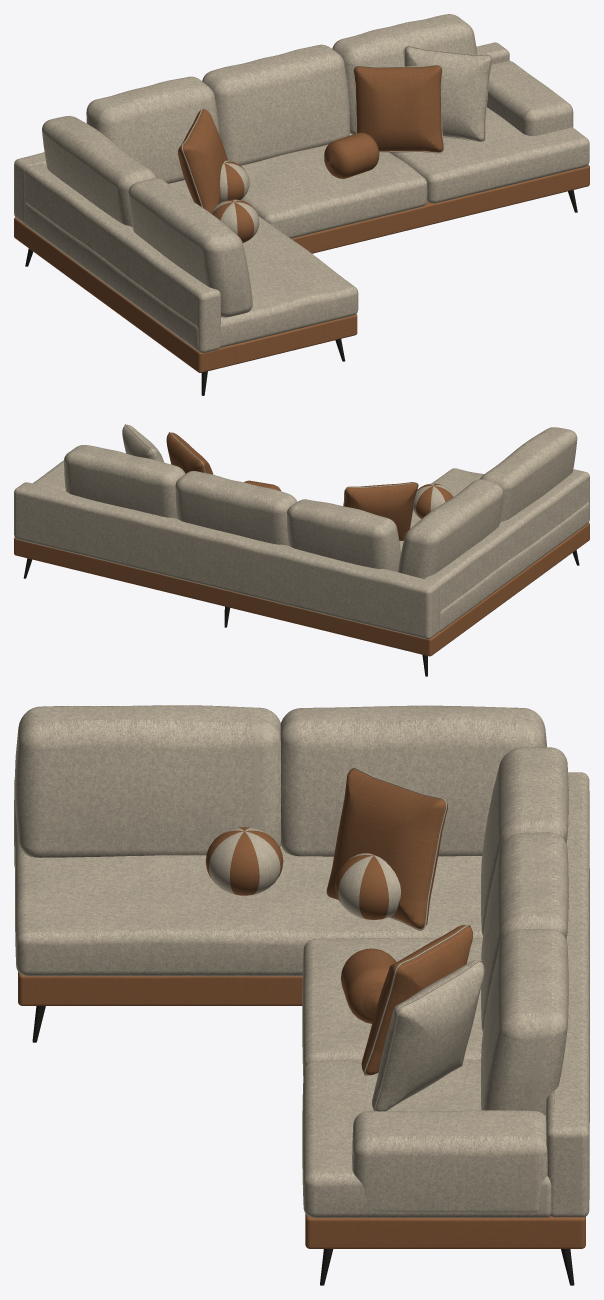
Rendered from corner.glb.
3 views of the same model, one above another, from view 1: azimuth 30°, elevation 25°; view 2: azimuth 150°, elevation 25°; view 3: azimuth 270°, elevation 25° (orthographic). The views are drawn at different scales.
Parts seen in each view (by area): view 1: fabric, accent, trim, pillows (×2); view 2: fabric, trim, accent, pillows, legs; view 3: fabric, accent, trim, pillows (×2), legs.
Boxes of the visible parts, <box> form: fabric: <box>14,14,589,353</box>; accent: <box>178,65,443,242</box>; trim: <box>14,164,589,372</box>; pillows (×2): <box>181,46,492,239</box>; fabric: <box>14,427,589,639</box>; trim: <box>14,523,589,656</box>; accent: <box>166,432,452,540</box>; pillows: <box>122,424,453,517</box>; legs: <box>23,550,579,676</box>; fabric: <box>14,705,589,1217</box>; accent: <box>205,769,472,1075</box>; trim: <box>18,972,585,1248</box>; pillows (×2): <box>208,767,484,1111</box>; legs: <box>32,1006,574,1285</box>.
Size of the model in its own units: 3 by 0.9237 by 2.
Materials: 5 (5 with a texture image).
